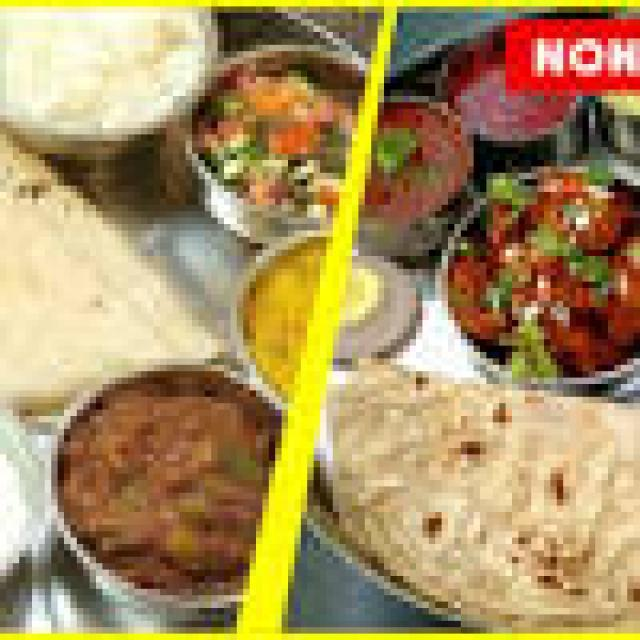roti: (344, 370, 637, 614)
